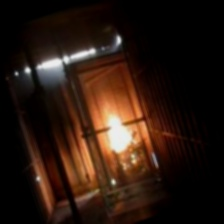fire: (89, 98, 149, 169)
